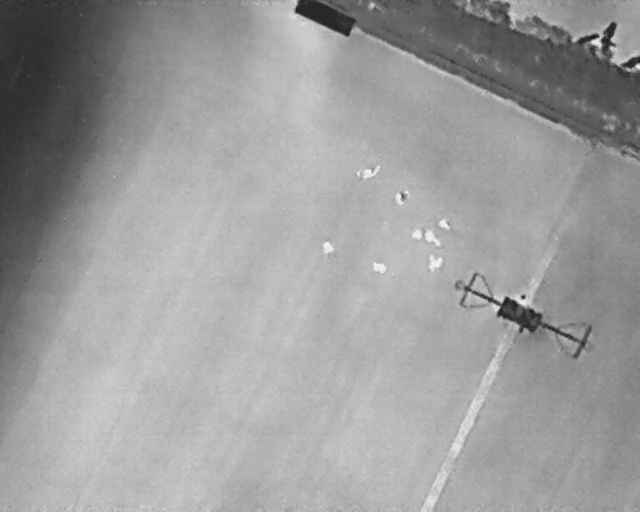Person: (351, 160, 384, 183), (422, 228, 445, 251), (426, 254, 445, 274), (369, 260, 390, 276), (437, 215, 455, 233), (395, 188, 410, 206), (320, 241, 335, 255), (410, 228, 423, 241)
